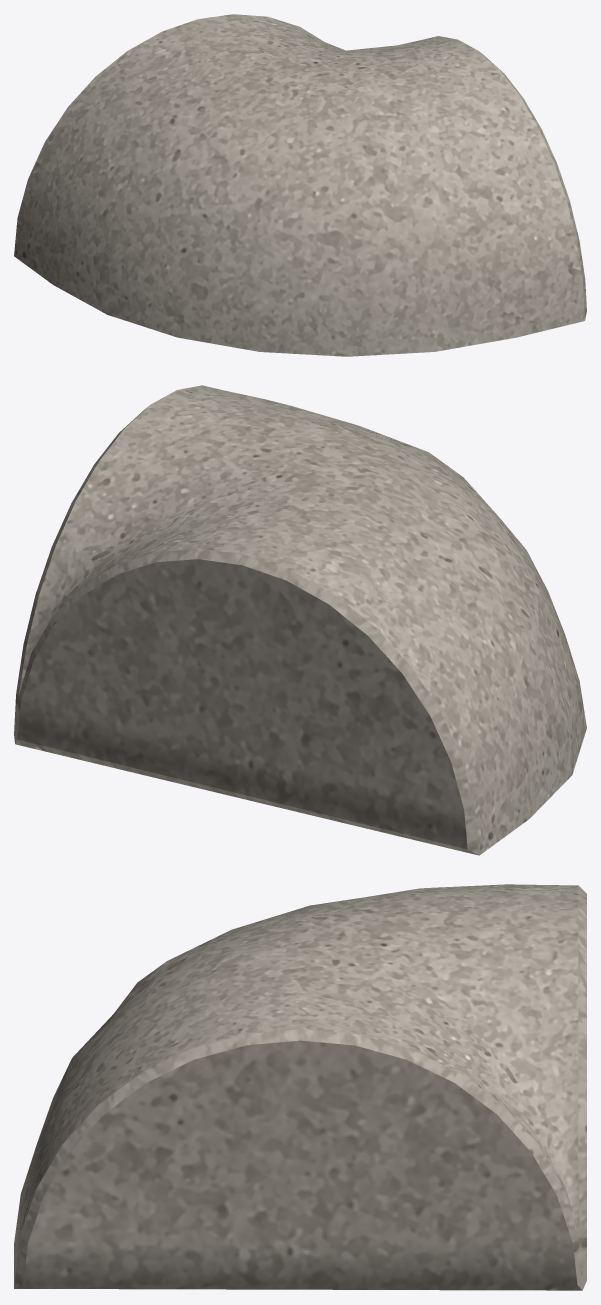
Rendered from GB_039_040_041_042_wall_top_rounded_cornerround.glb.
3 views of the same model, one above another, from view 1: azimuth 30°, elevation 25°; view 2: azimuth 150°, elevation 25°; view 3: azimuth 270°, elevation 25° (orthographic). The views are drawn at different scales.
Parts seen in each view (by area): view 1: GB_039_040_041_042_wall_top_rounded_cornerround; view 2: GB_039_040_041_042_wall_top_rounded_cornerround; view 3: GB_039_040_041_042_wall_top_rounded_cornerround.
Part boxes in pixels (x1=…): GB_039_040_041_042_wall_top_rounded_cornerround: x1=14, y1=14, x2=586, y2=356; GB_039_040_041_042_wall_top_rounded_cornerround: x1=14, y1=385, x2=586, y2=855; GB_039_040_041_042_wall_top_rounded_cornerround: x1=14, y1=884, x2=586, y2=1290.
Size of the model in its own units: 0.7498 by 0.3748 by 0.7498.
Materials: 1 (1 with a texture image).
